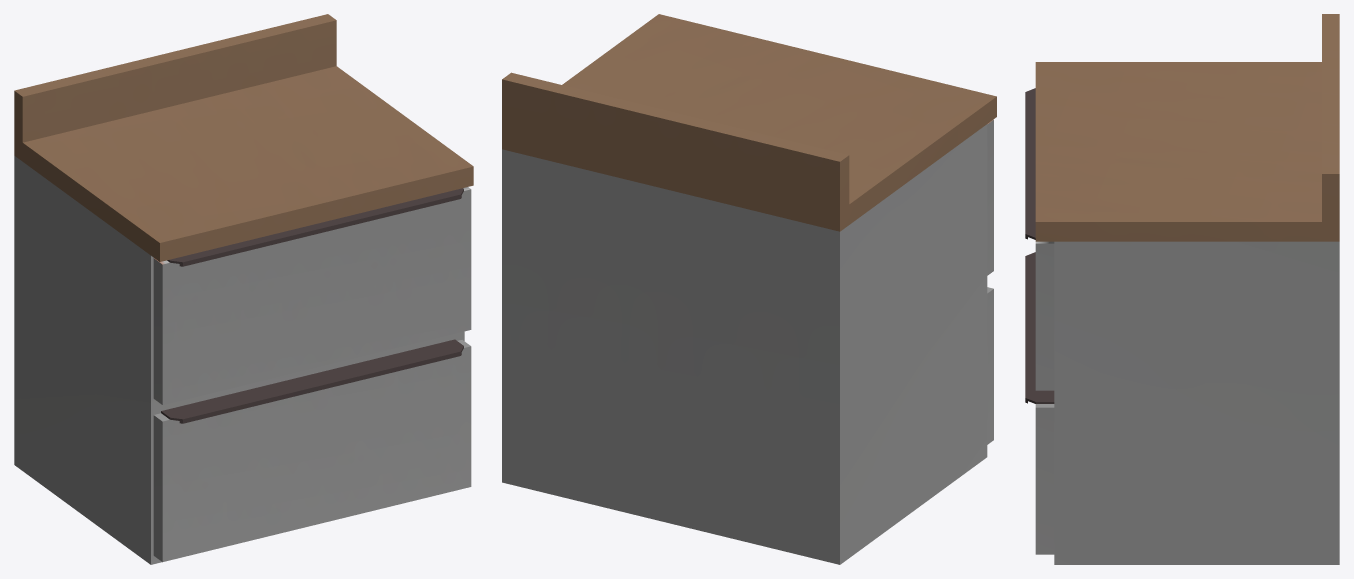
File: KitchenBlock_D.fbx
3 renders of one model, left to right at view 1: azimuth 30°, elevation 25°; view 2: azimuth 150°, elevation 25°; view 3: azimuth 270°, elevation 25°, orthographic. The views are drawn at different scales.
Parts seen in each view (by area): view 1: Kit_1_Block_D; view 2: Kit_1_Block_D; view 3: Kit_1_Block_D.
Boxes of the visible parts, x1,y1,x2,y2 form: Kit_1_Block_D: (14,14,473,564); Kit_1_Block_D: (502,14,996,564); Kit_1_Block_D: (1025,14,1339,564).
Bounding box in the file's own units: 82.46 × 93.97 × 68.51.
